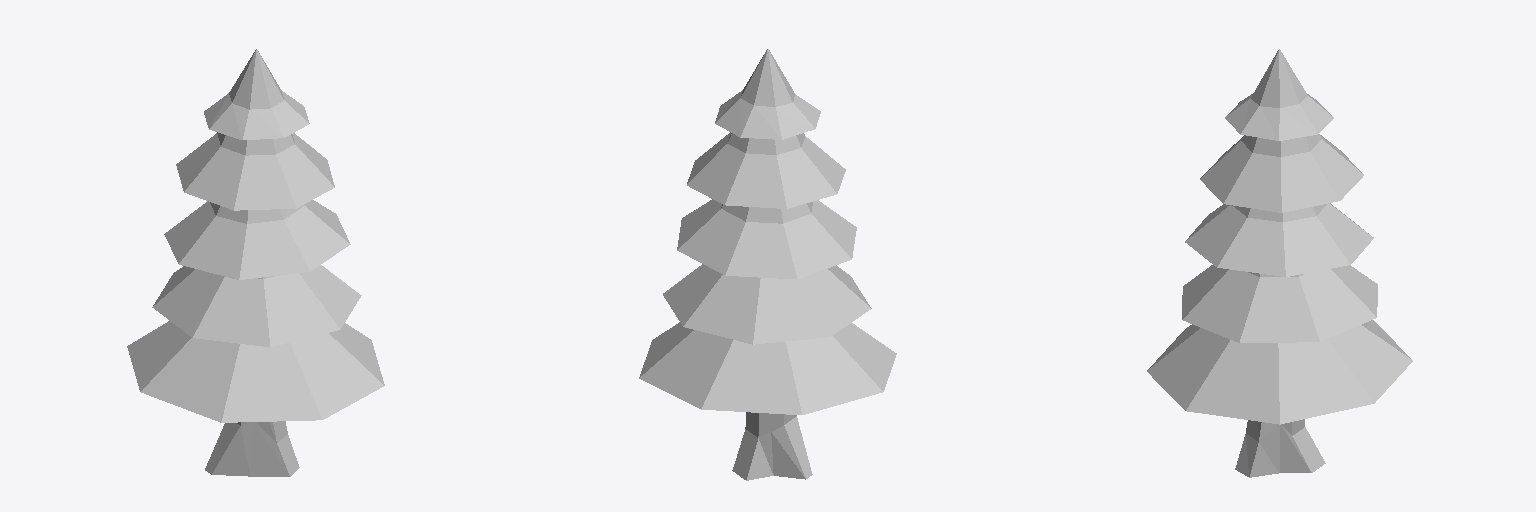
File: PineTree_001.obj
3 renders of one model, left to right at view 1: azimuth 30°, elevation 25°; view 2: azimuth 150°, elevation 25°; view 3: azimuth 270°, elevation 25°, orthographic.
Parts seen in each view (by area): view 1: PineTree_001; view 2: PineTree_001; view 3: PineTree_001.
Boxes of the visible parts, <box> form: PineTree_001: <box>127,49,384,476</box>; PineTree_001: <box>639,49,896,480</box>; PineTree_001: <box>1147,49,1412,477</box>.
Size of the model in its own units: 336 by 577 by 336.